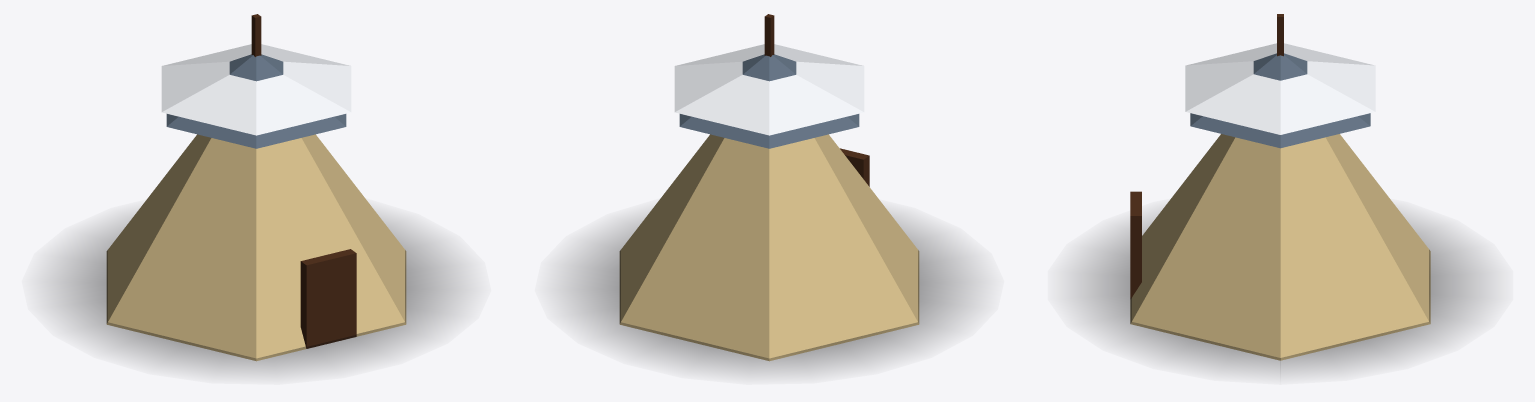
Rendered from shelter_t0.glb.
The picture shows the model from 3 angles, left to right: view 1: azimuth 30°, elevation 25°; view 2: azimuth 150°, elevation 25°; view 3: azimuth 270°, elevation 25°; orthographic projection.
Parts seen in each view (by area): view 1: shelter_t0; view 2: shelter_t0; view 3: shelter_t0.
Boxes of the visible parts, x1,y1,x2,y2 form: shelter_t0: (51,14,461,372); shelter_t0: (564,14,974,372); shelter_t0: (1077,14,1483,375).
Size of the model in its own units: 4.2 by 2.6 by 4.16.
